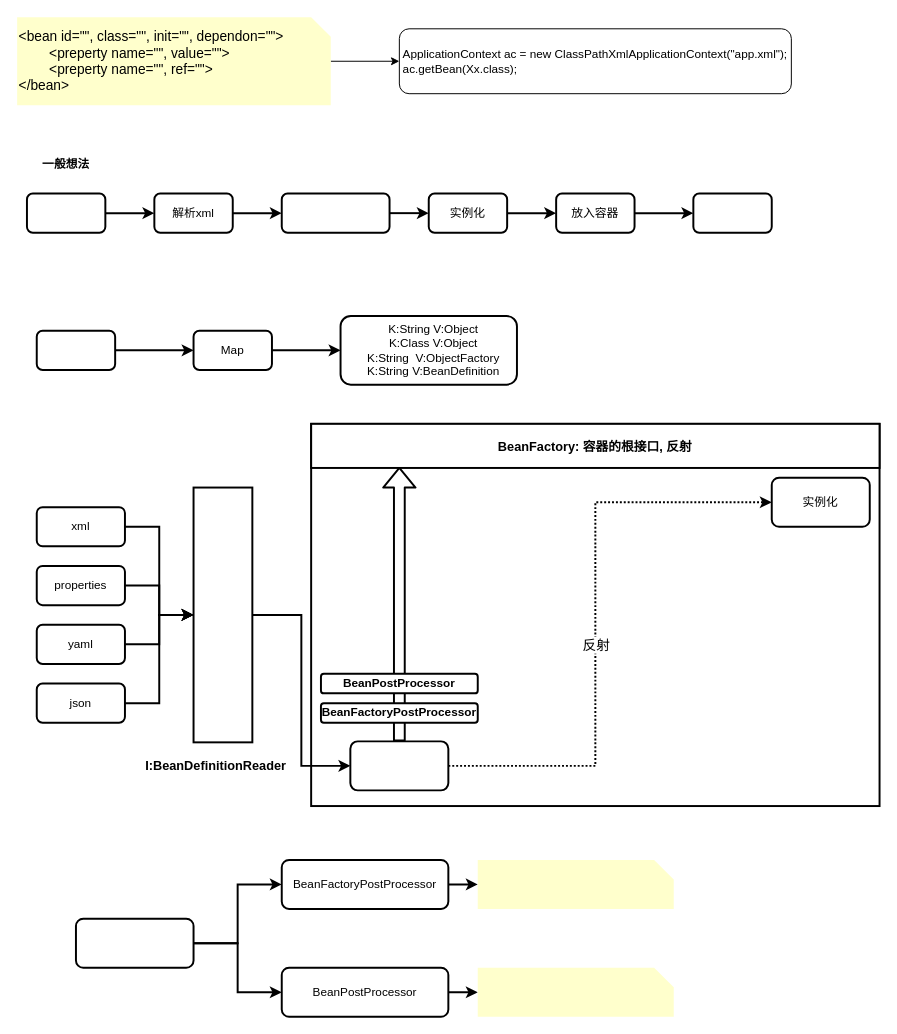
Some shapes in this 897 by 1034 pixel diagram are drawn without their labels. The shapes that lost their labels are listed below. From the top down, each one's box as (x1, y1, x2, y2) in pixels, then its label:
(25, 192, 106, 233): 加载xml
(280, 192, 390, 233): 封装BeanDefinition
(692, 192, 772, 233): 获取
(35, 329, 116, 370): 容器
(192, 486, 253, 743): 定义规范 方便扩展
(349, 740, 449, 791): BeanDefinition
(477, 859, 673, 908): 修改[增强]BeanDefinition信息
(74, 917, 194, 968): PostProcessor
(477, 967, 673, 1016): 修改[增强]Bean信息
